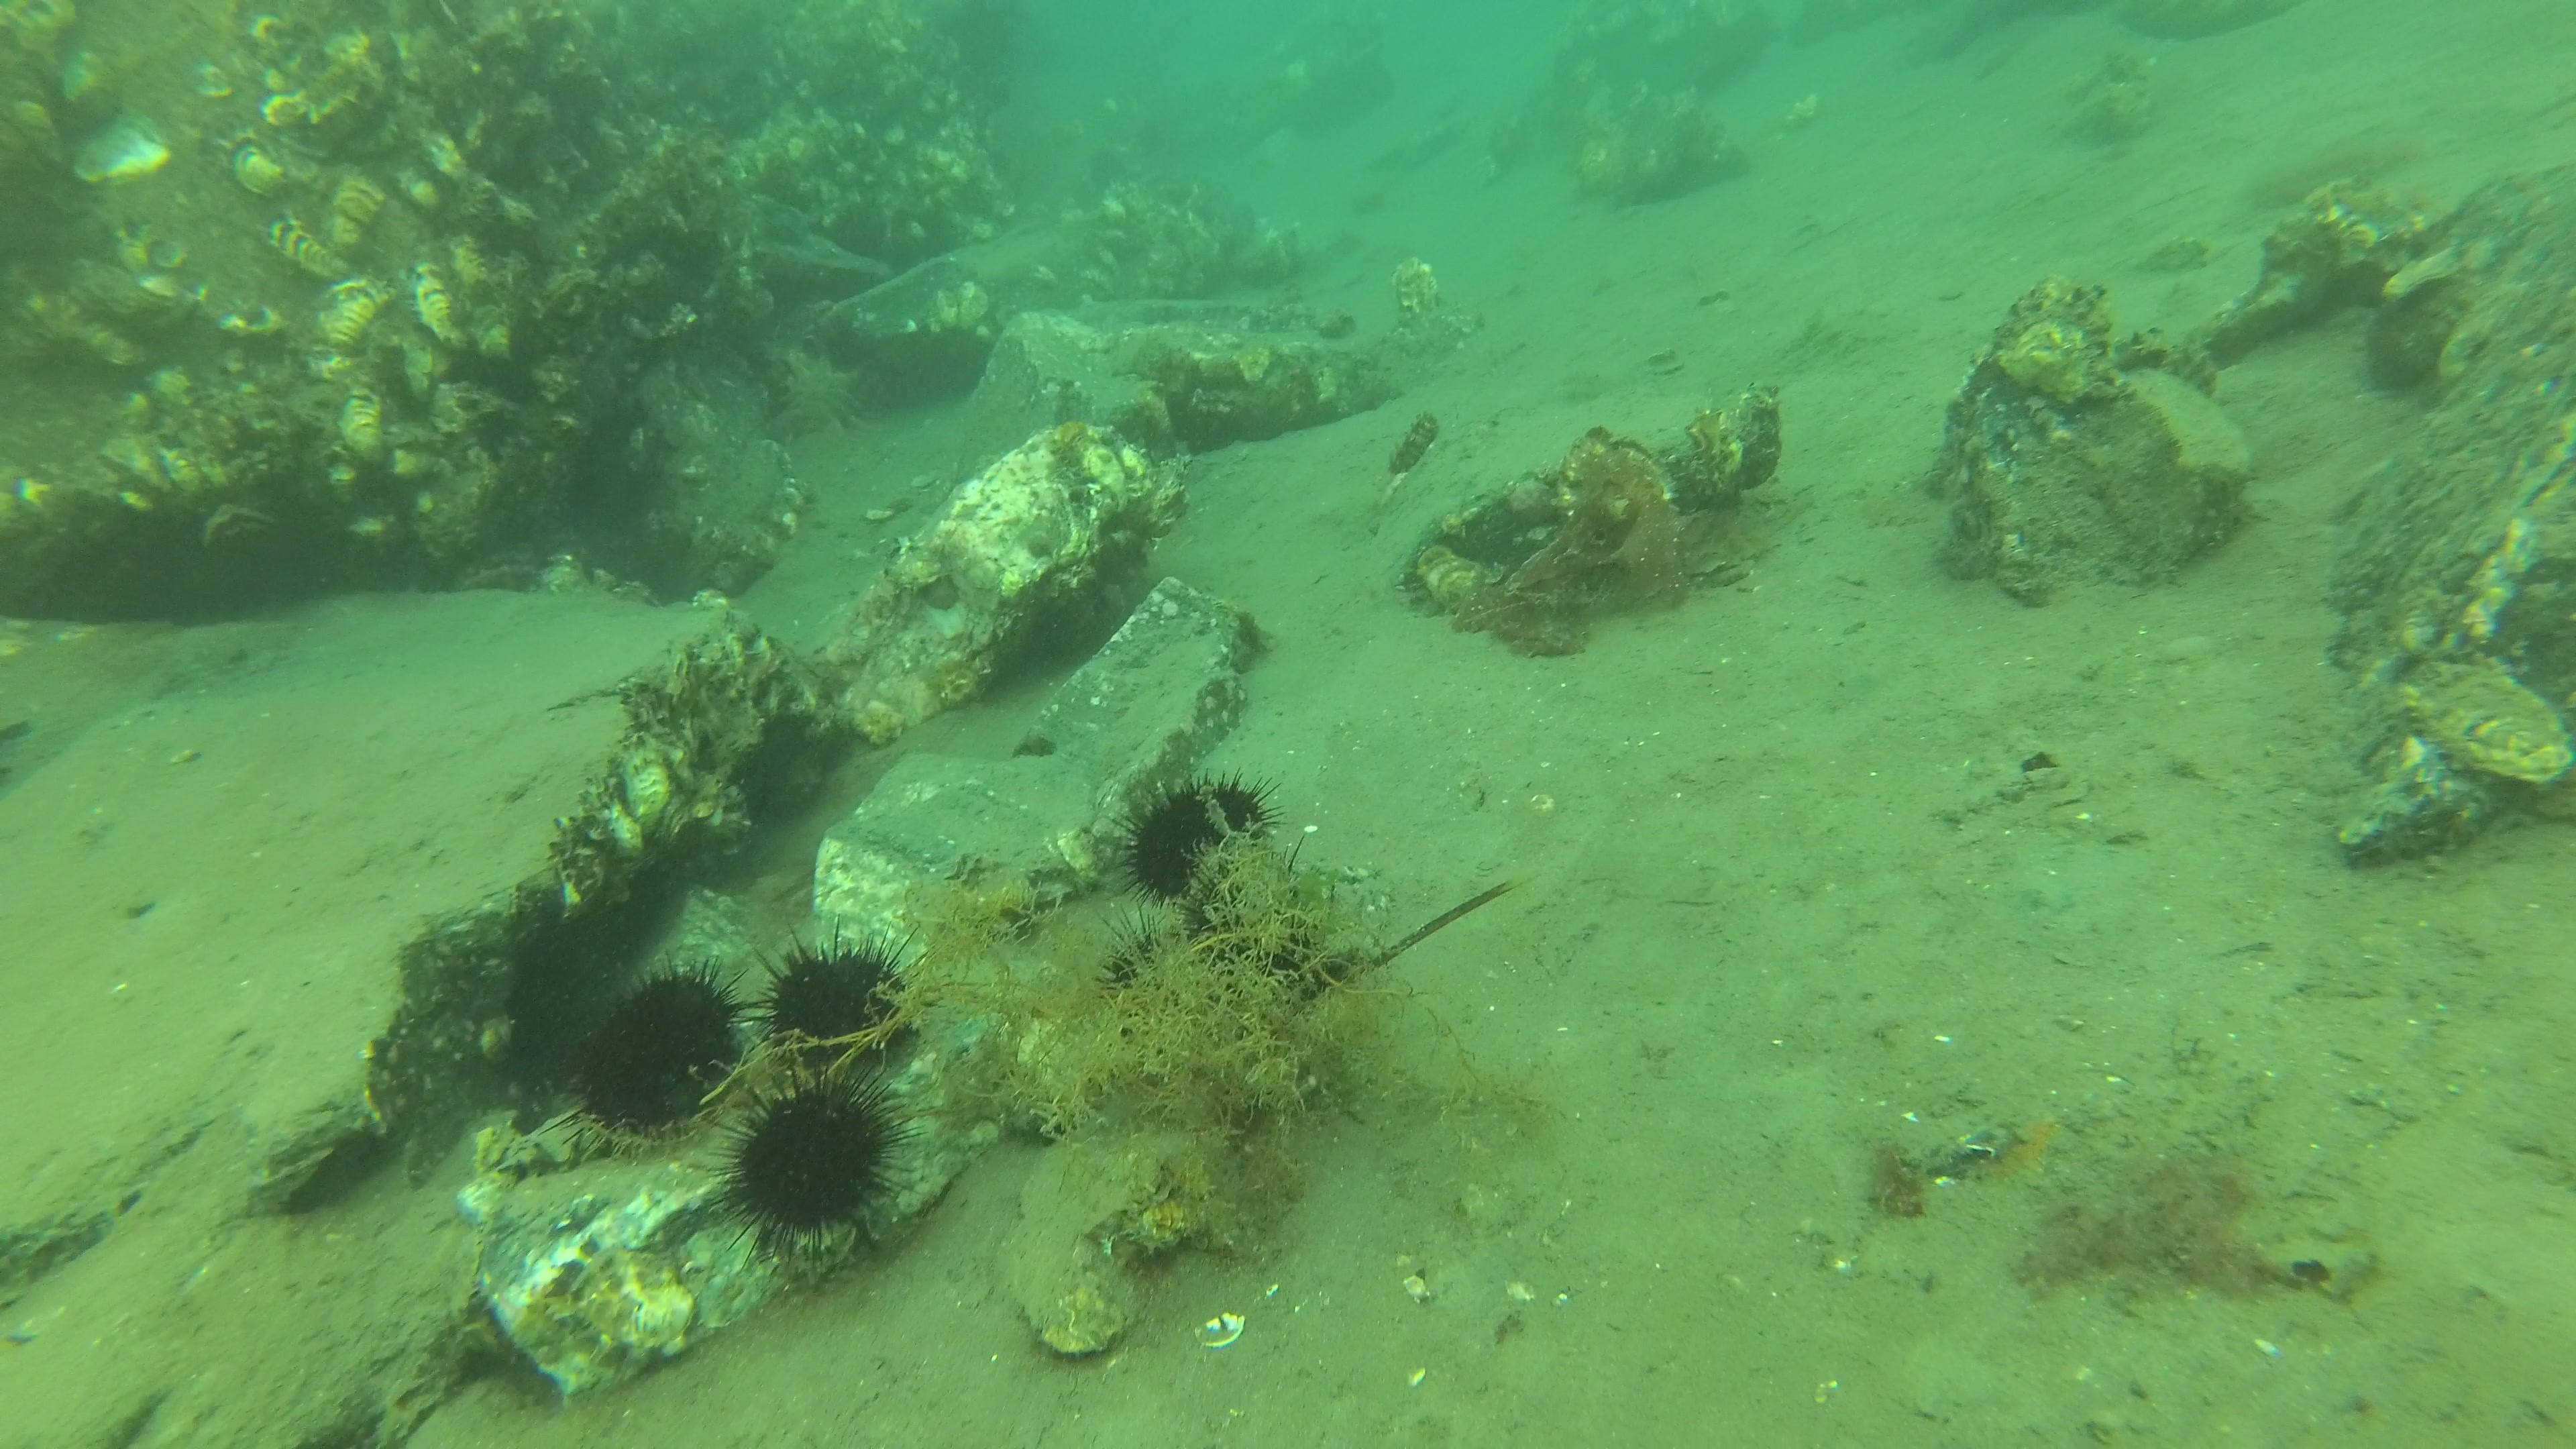echinus: (718, 1053, 909, 1260), (570, 955, 755, 1145), (754, 913, 936, 1097), (1116, 761, 1279, 911)
